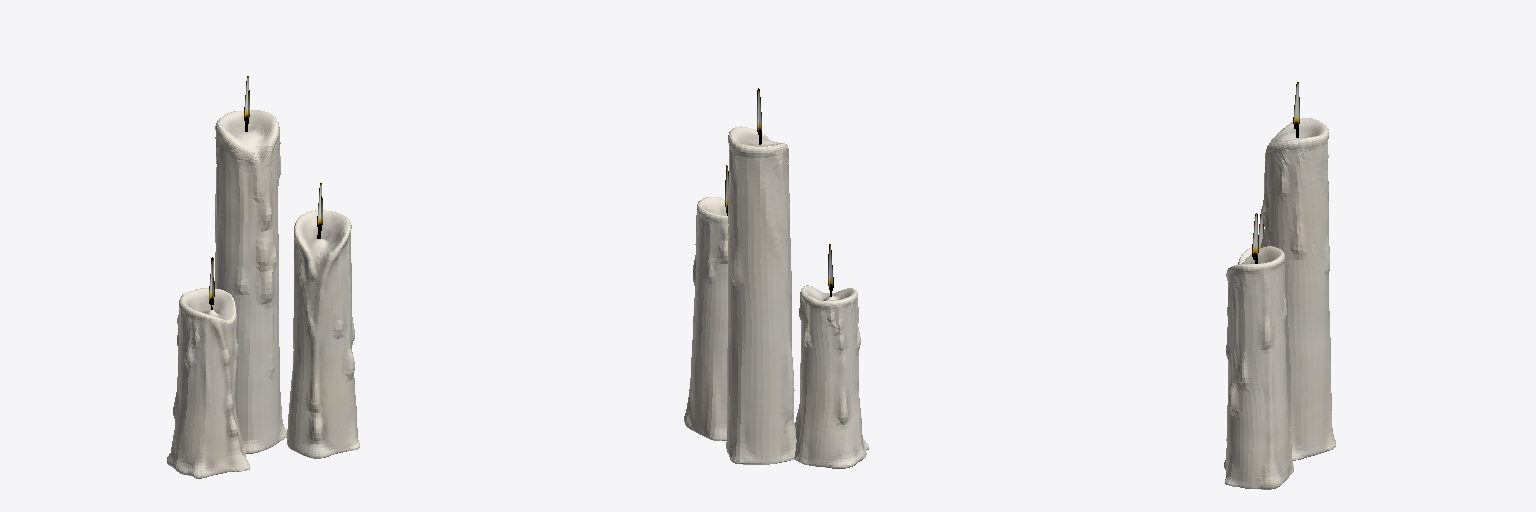
3 views of the same model, side by side, from view 1: azimuth 30°, elevation 25°; view 2: azimuth 150°, elevation 25°; view 3: azimuth 270°, elevation 25° (orthographic).
Parts seen in each view (by area): view 1: CandleSet01_Stick02_geo_Candles_MAT_0, CandleSet01_Stick03_geo_Candles_MAT_0, CandleSet01_Stick01_geo_Candles_MAT_0; view 2: CandleSet01_Stick02_geo_Candles_MAT_0, CandleSet01_Stick01_geo_Candles_MAT_0, CandleSet01_Stick03_geo_Candles_MAT_0; view 3: CandleSet01_Stick02_geo_Candles_MAT_0, CandleSet01_Stick03_geo_Candles_MAT_0.
Part boxes in pixels (left/top/right/bottom): CandleSet01_Stick02_geo_Candles_MAT_0: left=215, top=110, right=286, bottom=453; CandleSet01_Stick03_geo_Candles_MAT_0: left=287, top=210, right=359, bottom=458; CandleSet01_Stick01_geo_Candles_MAT_0: left=167, top=288, right=249, bottom=478; CandleSet01_Stick02_geo_Candles_MAT_0: left=726, top=126, right=796, bottom=464; CandleSet01_Stick01_geo_Candles_MAT_0: left=794, top=285, right=868, bottom=468; CandleSet01_Stick03_geo_Candles_MAT_0: left=684, top=197, right=728, bottom=440; CandleSet01_Stick02_geo_Candles_MAT_0: left=1261, top=118, right=1335, bottom=460; CandleSet01_Stick03_geo_Candles_MAT_0: left=1224, top=246, right=1293, bottom=489.
Bounding box in the file's own units: 0.1522 × 0.3185 × 0.084.
3 materials, 2 textured.